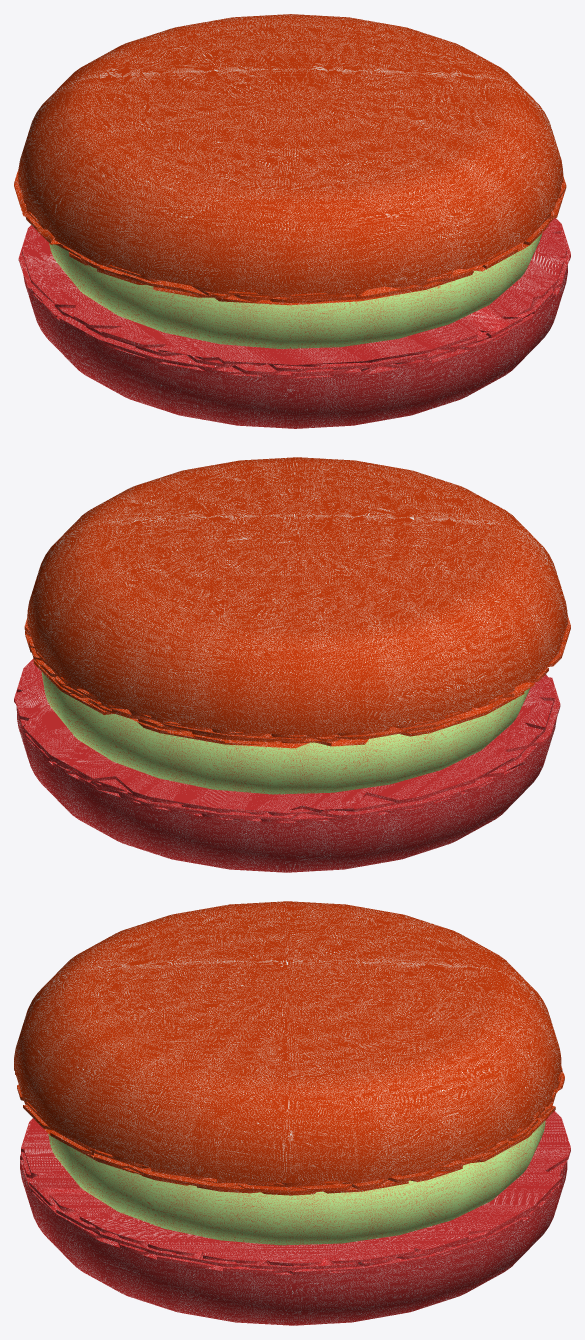
File: strawberry.dae
3 views of the same model, one above another, from view 1: azimuth 30°, elevation 25°; view 2: azimuth 150°, elevation 25°; view 3: azimuth 270°, elevation 25° (orthographic).
Parts seen in each view (by area): view 1: Composant_1 (×5); view 2: Composant_1 (×5); view 3: Composant_1 (×5).
Boxes of the visible parts, bbox=[...] form: Composant_1 (×5): bbox=[14, 14, 570, 428]; Composant_1 (×5): bbox=[14, 457, 570, 872]; Composant_1 (×5): bbox=[14, 901, 570, 1325].
Size of the model in its own units: 1.14 by 1.13 by 0.5612.
